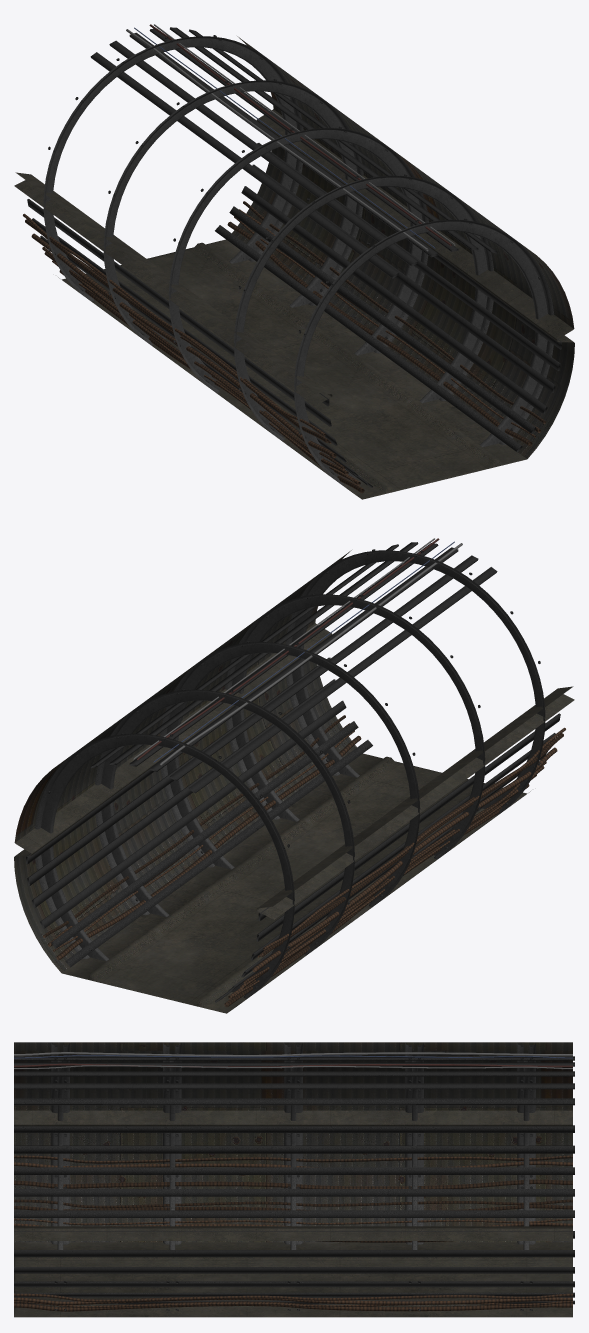
File: tunnel_1.glb
The picture shows the model from 3 angles, top to bottom: view 1: azimuth 30°, elevation 25°; view 2: azimuth 150°, elevation 25°; view 3: azimuth 270°, elevation 25°; orthographic projection. The views are drawn at different scales.
Visible parts, largest first — view 1: tunnel_1; view 2: tunnel_1; view 3: tunnel_1.
Part boxes in pixels (box(x1,y1,x2,y2)): tunnel_1: box(14, 24, 574, 499); tunnel_1: box(14, 538, 574, 1013); tunnel_1: box(14, 1042, 574, 1317).
Bounding box in the file's own units: 3 × 2.7 × 6.02.
8 materials, 8 textured.
